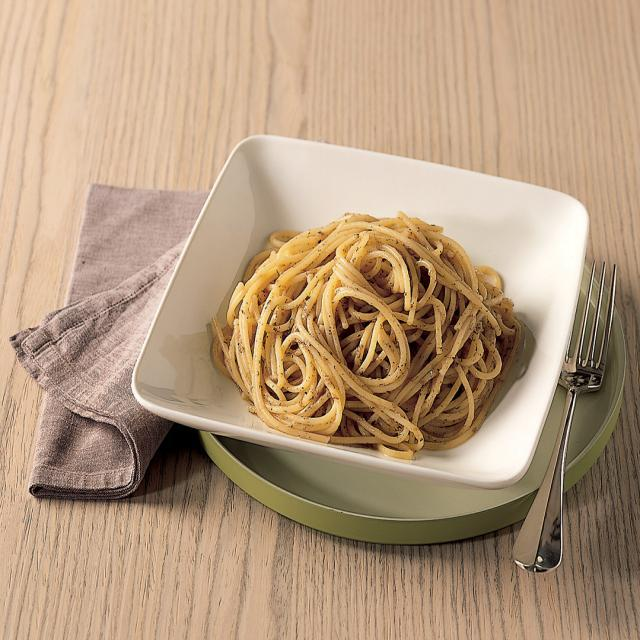Oil pasta: (205, 176, 553, 499)
